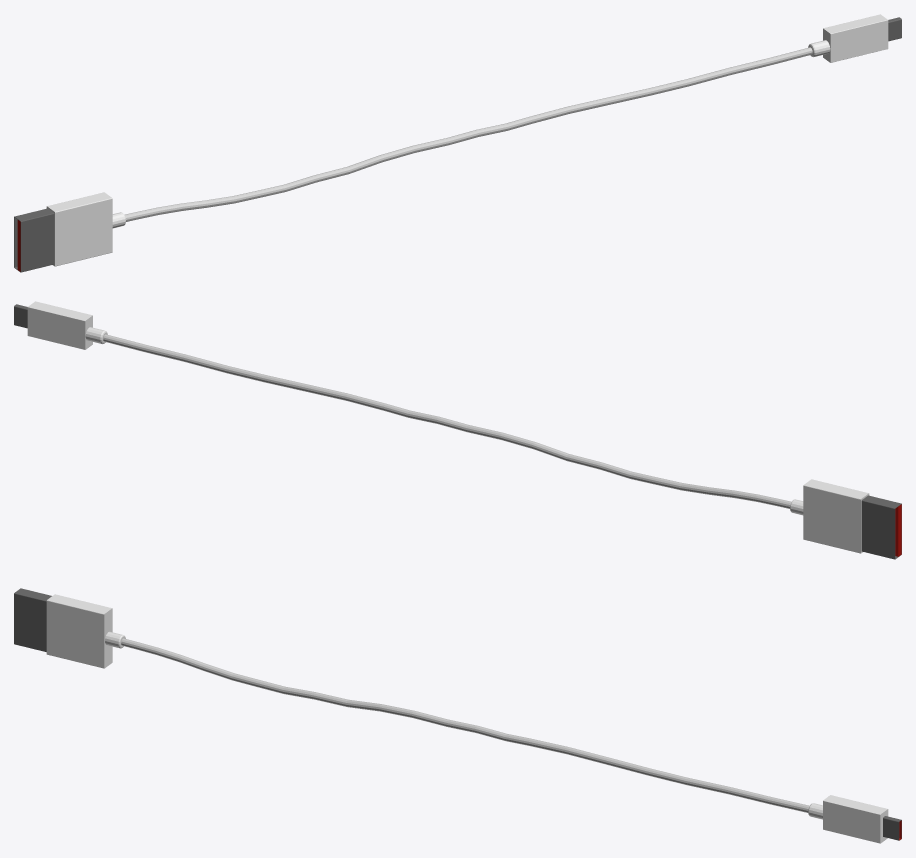
The model's file is phone_charging_cable_cdov.glb.
The picture shows the model from 3 angles, top to bottom: view 1: azimuth 30°, elevation 25°; view 2: azimuth 150°, elevation 25°; view 3: azimuth 330°, elevation 25°; orthographic projection.
Parts seen in each view (by area): view 1: phone charging cable; view 2: phone charging cable; view 3: phone charging cable.
Part boxes in pixels (x1=…): phone charging cable: x1=14, y1=14, x2=901, y2=272; phone charging cable: x1=14, y1=301, x2=901, y2=559; phone charging cable: x1=14, y1=588, x2=901, y2=843.
Bounding box in the file's own units: 1.96 × 0.116 × 0.0325.
